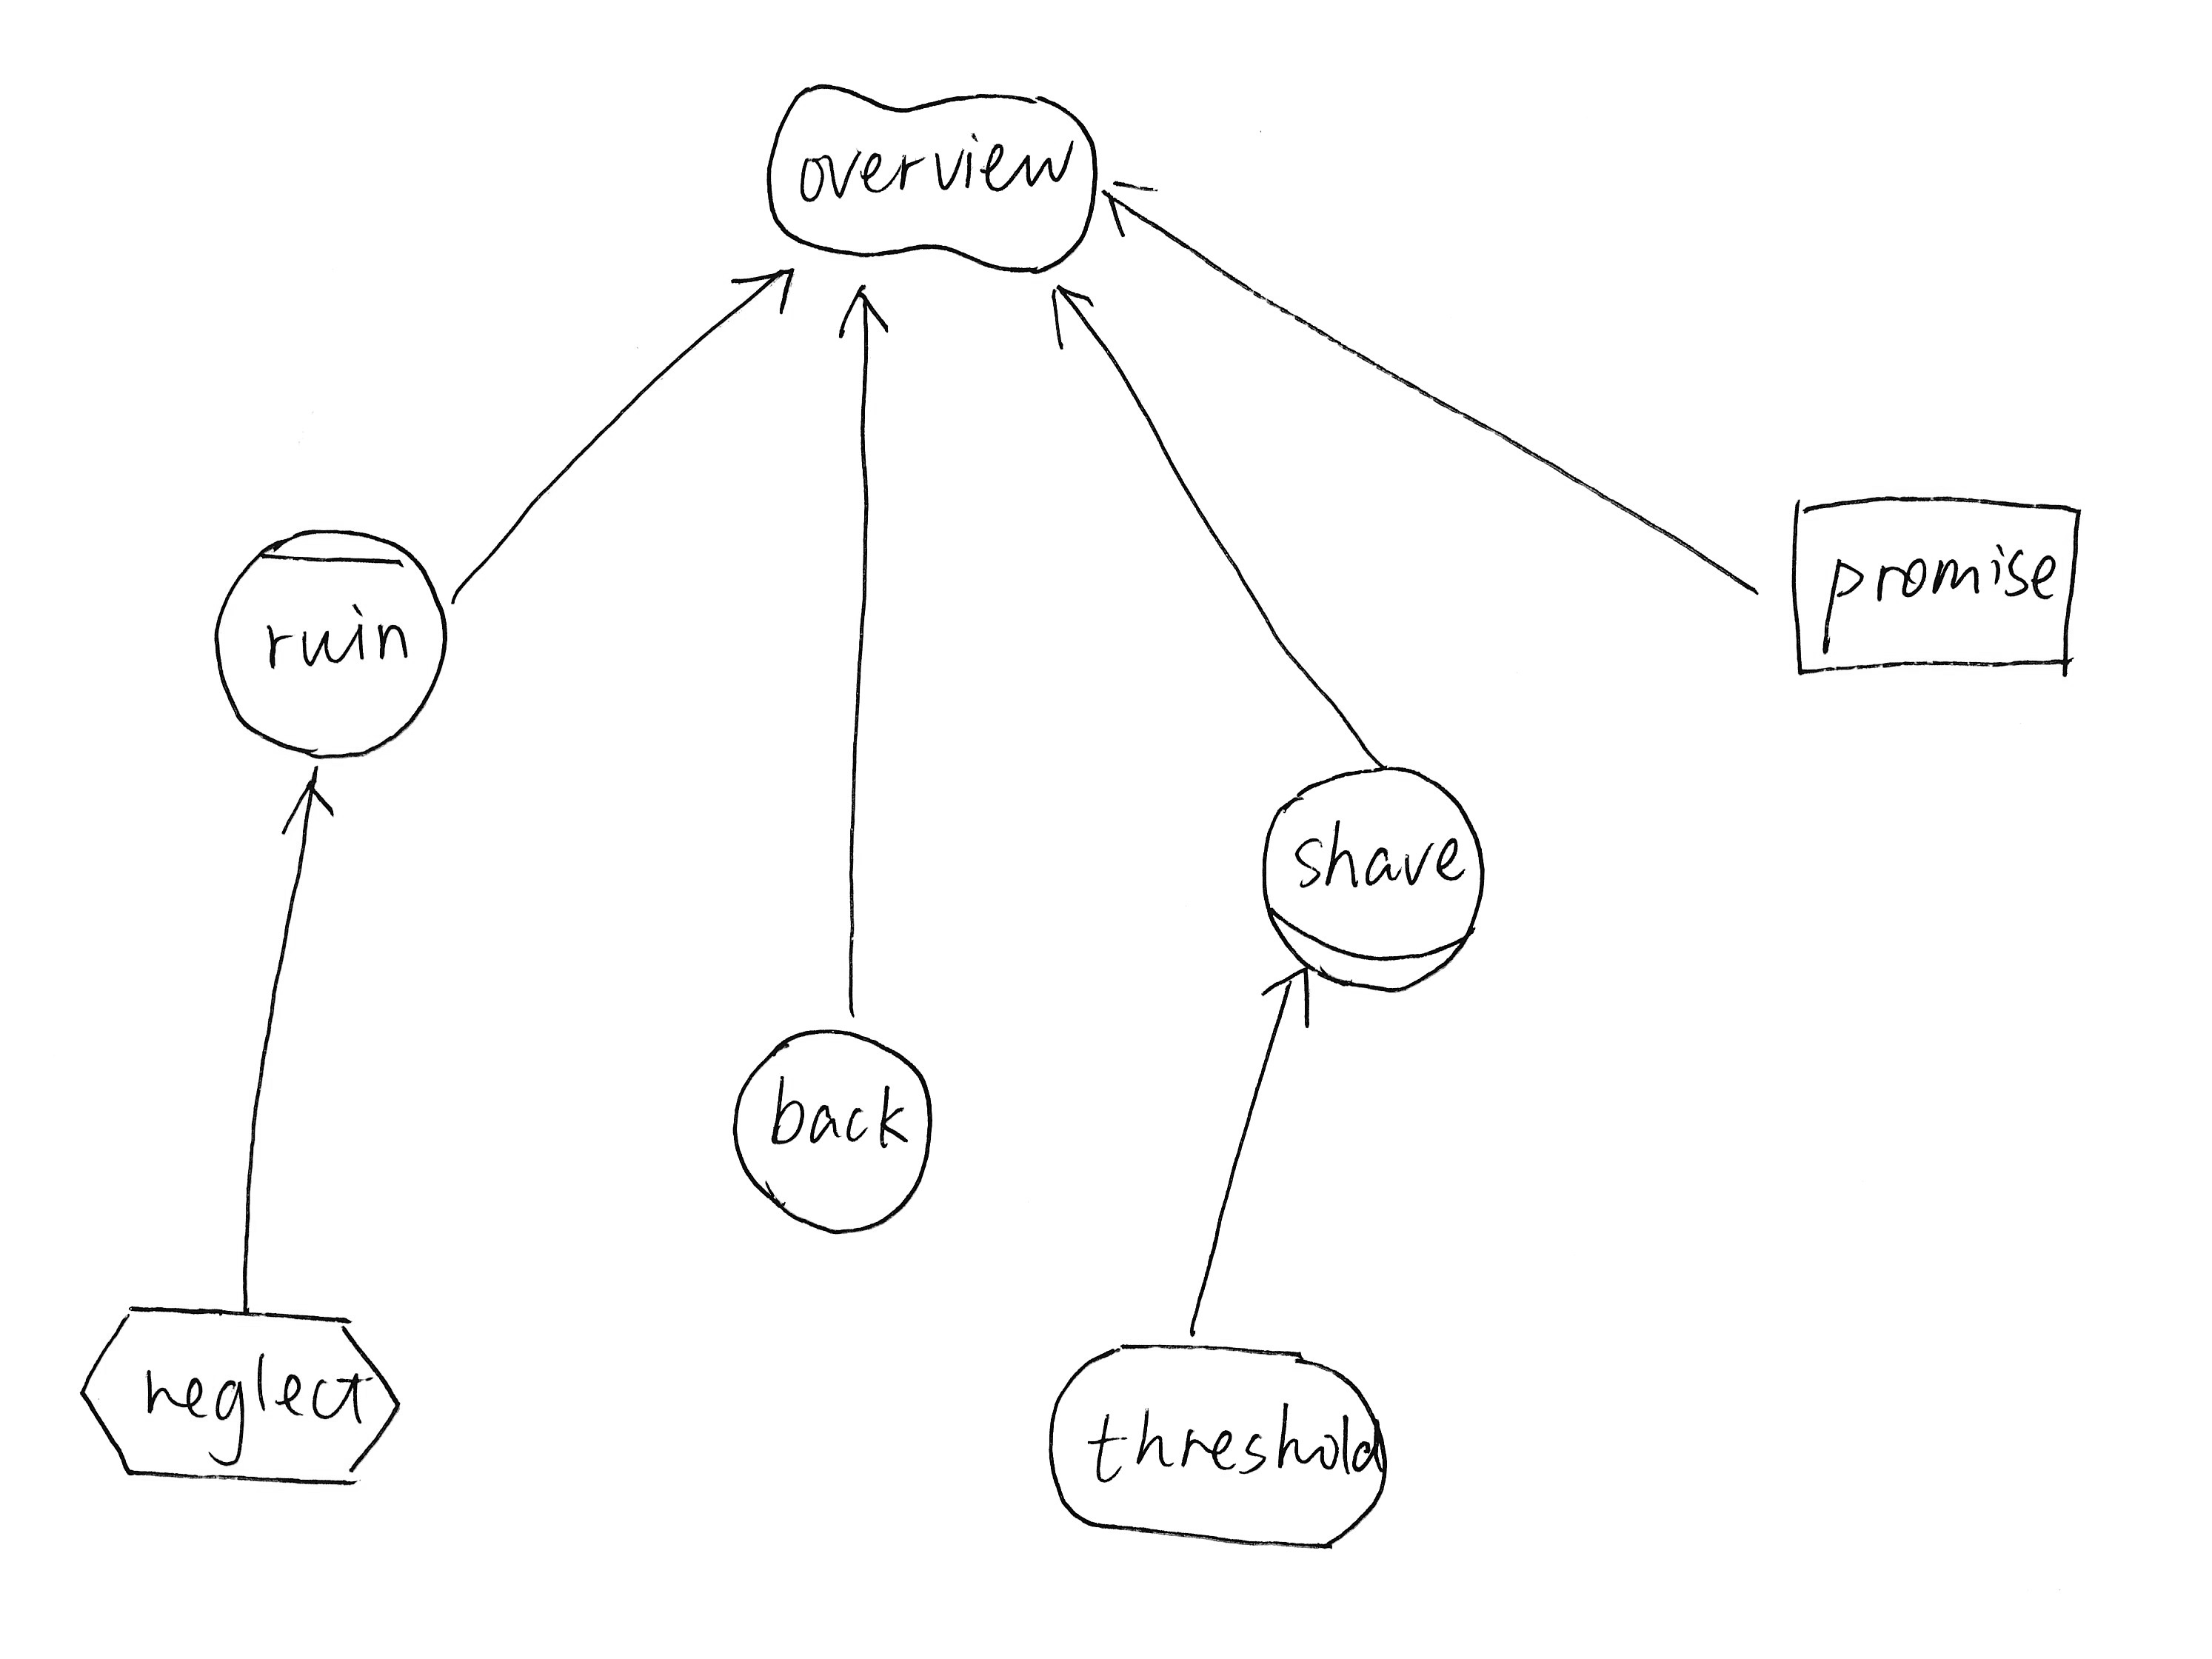actor: (712, 1014, 948, 1246)
agent: (202, 512, 460, 772)
arrow: (711, 247, 803, 335), (1021, 277, 1106, 361), (272, 758, 355, 842), (1242, 960, 1325, 1039), (1097, 164, 1169, 251), (829, 272, 900, 350)
goal: (1022, 1323, 1406, 1570)
quality: (751, 54, 1113, 298)
resource: (1757, 476, 2094, 709)
role: (1245, 751, 1496, 1002)
task: (70, 1286, 420, 1511)
